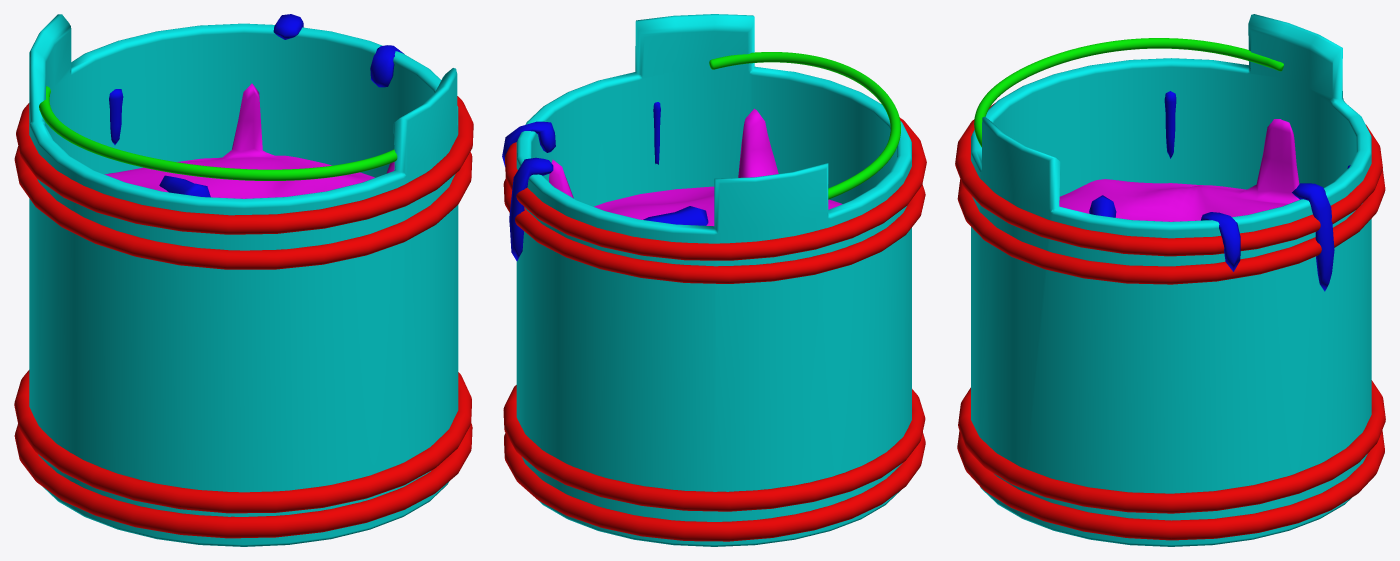
The model's file is seau.fbx.
3 views of the same model, side by side, from view 1: azimuth 30°, elevation 25°; view 2: azimuth 150°, elevation 25°; view 3: azimuth 270°, elevation 25° (orthographic). The views are drawn at different scales.
Parts seen in each view (by area): view 1: seau; view 2: seau; view 3: seau.
Part boxes in pixels (box(x1,y1,x2,y2)): seau: box(14, 14, 473, 546); seau: box(502, 14, 926, 546); seau: box(955, 14, 1385, 546).
Size of the model in its own units: 0.8144 by 0.784 by 0.8211.
